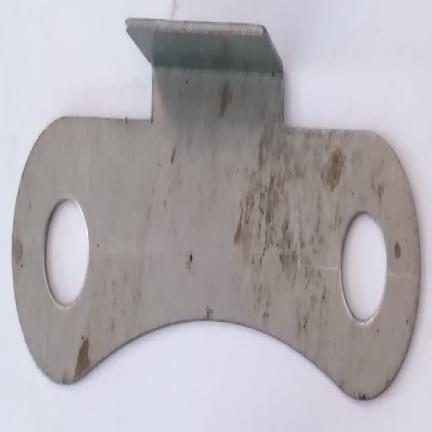besi_tidak_karat: (10, 20, 420, 399)
